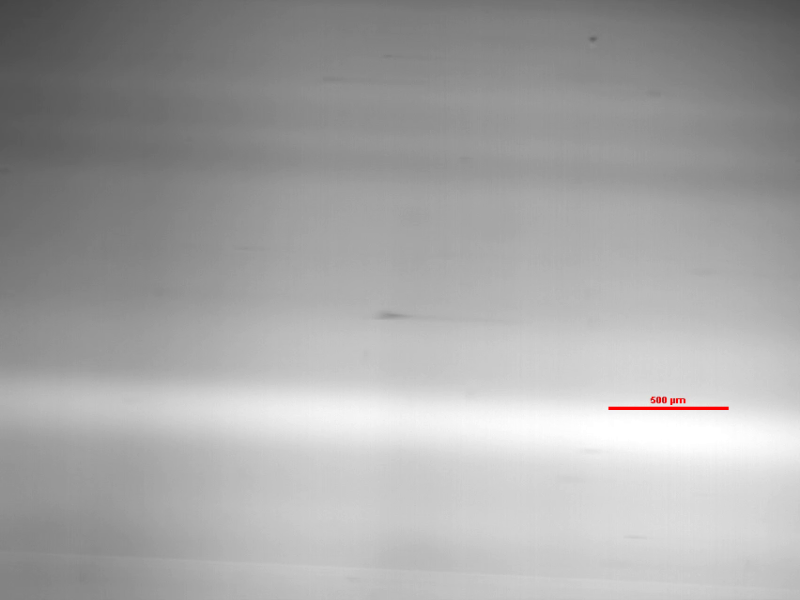bead: (587, 35, 599, 47)
fiber: (372, 307, 512, 330), (316, 73, 424, 89), (580, 444, 644, 459), (380, 52, 448, 63), (227, 242, 284, 255), (621, 532, 660, 544)
